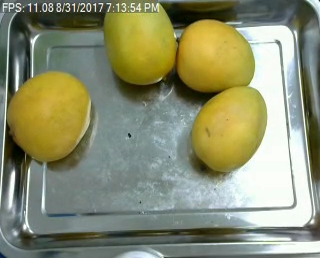Mango: (2, 69, 96, 161), (193, 84, 271, 173), (102, 0, 179, 88), (176, 19, 258, 94)
